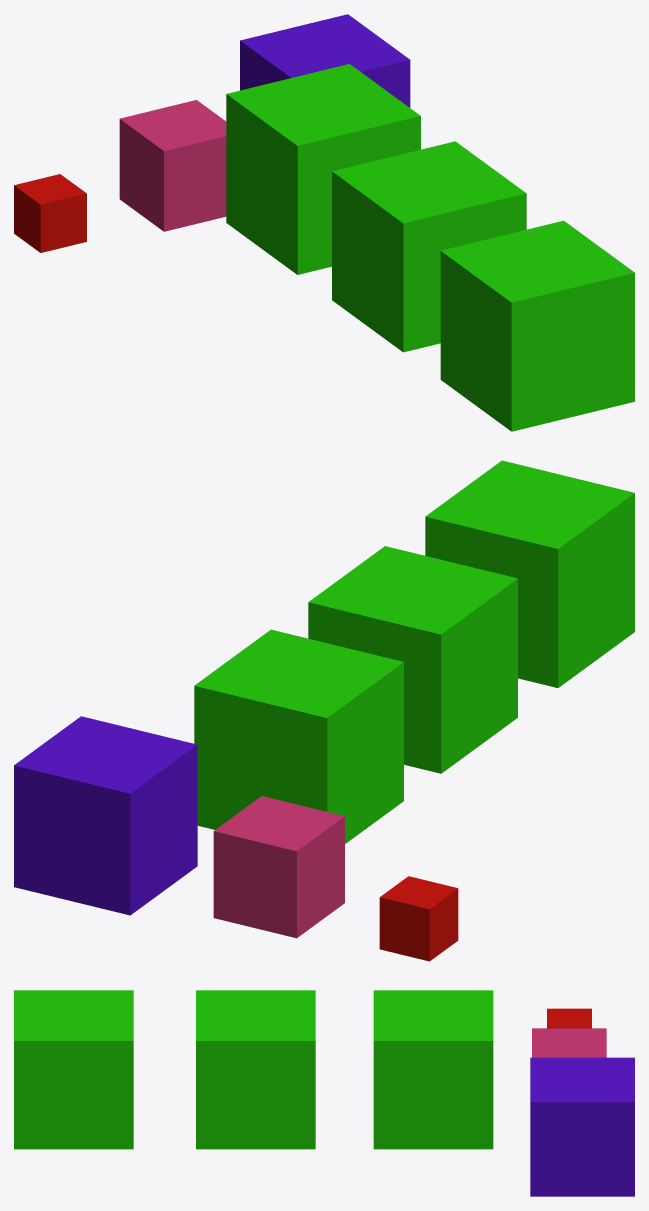
3 views of the same model, one above another, from view 1: azimuth 30°, elevation 25°; view 2: azimuth 150°, elevation 25°; view 3: azimuth 270°, elevation 25° (orthographic). The views are drawn at different scales.
Parts seen in each view (by area): view 1: 立方体.017, 立方体.014, 立方体, 立方体.003, 立方体.002, 立方体.001; view 2: 立方体, 立方体.002, 立方体.017, 立方体.014, 立方体.003, 立方体.001; view 3: 立方体, 立方体.014, 立方体.017, 立方体.002, 立方体.003, 立方体.001.
Part boxes in pixels (bbox=[...]): 立方体.017: bbox=[440, 220, 634, 431]; 立方体.014: bbox=[332, 141, 526, 352]; 立方体: bbox=[226, 64, 420, 274]; 立方体.003: bbox=[119, 100, 226, 231]; 立方体.002: bbox=[240, 14, 410, 107]; 立方体.001: bbox=[14, 174, 86, 252]; 立方体: bbox=[194, 629, 403, 843]; 立方体.002: bbox=[14, 716, 197, 915]; 立方体.017: bbox=[425, 460, 634, 687]; 立方体.014: bbox=[308, 546, 517, 773]; 立方体.003: bbox=[213, 796, 344, 938]; 立方体.001: bbox=[379, 876, 458, 961]; 立方体: bbox=[373, 990, 493, 1149]; 立方体.014: bbox=[196, 990, 315, 1149]; 立方体.017: bbox=[14, 990, 133, 1149]; 立方体.002: bbox=[530, 1057, 634, 1196]; 立方体.003: bbox=[532, 1028, 606, 1057]; 立方体.001: bbox=[547, 1008, 591, 1028].
Size of the model in its own units: 46.68 by 18 by 83.11.
